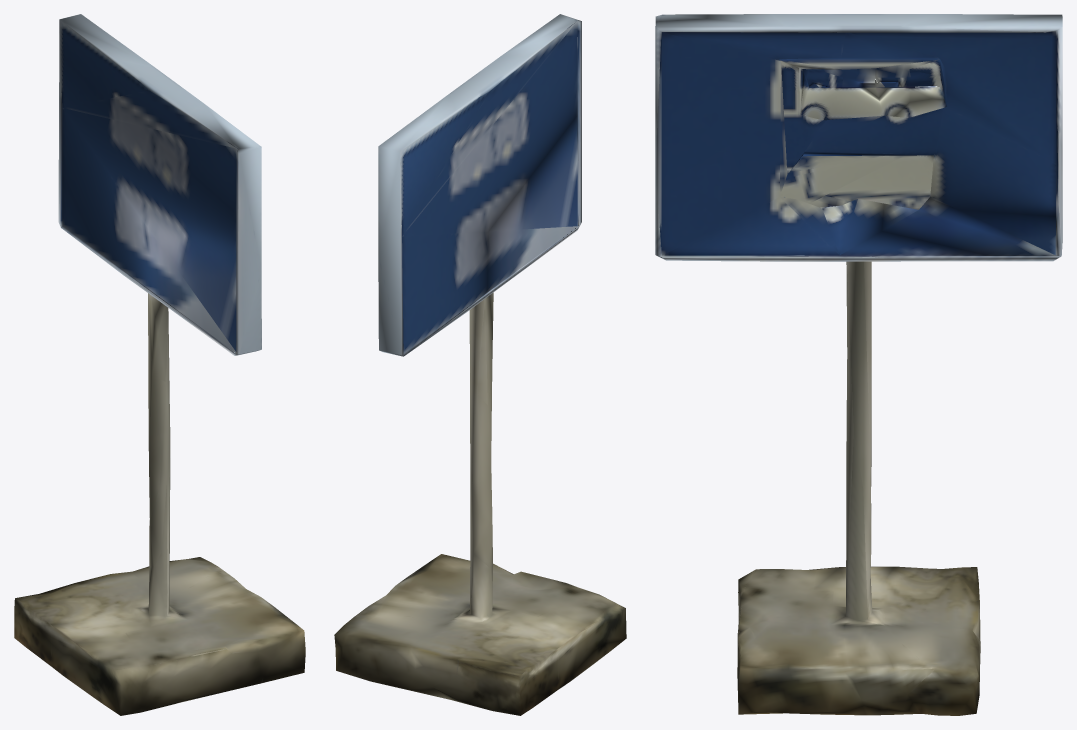
File: rambu_bus_truck.glb
3 renders of one model, left to right at view 1: azimuth 30°, elevation 25°; view 2: azimuth 150°, elevation 25°; view 3: azimuth 270°, elevation 25°, orthographic. The views are drawn at different scales.
Parts seen in each view (by area): view 1: tripo_node_6c804d37; view 2: tripo_node_6c804d37; view 3: tripo_node_6c804d37.
Part boxes in pixels (x1=…): tripo_node_6c804d37: x1=14, y1=14, x2=305, y2=715; tripo_node_6c804d37: x1=334, y1=14, x2=626, y2=715; tripo_node_6c804d37: x1=655, y1=14, x2=1062, y2=715.
Bounding box in the file's own units: 34.2 × 99.94 × 57.17.
Materials: 1 (1 with a texture image).
